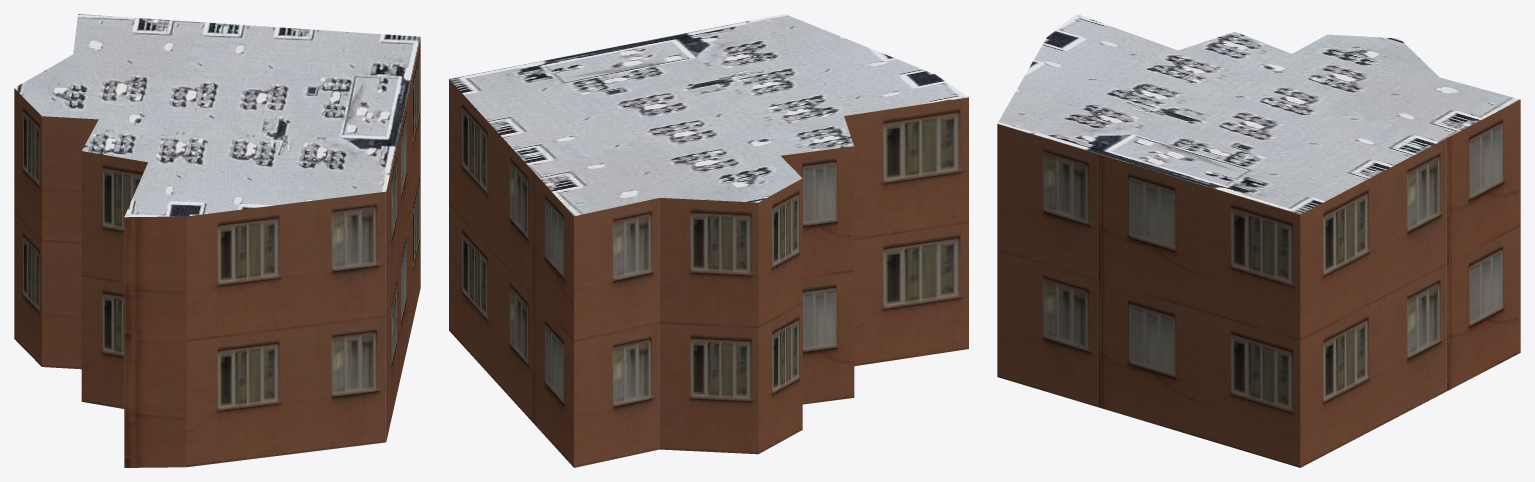
Rendered from ResTex__4751.fbx.
The picture shows the model from 3 angles, left to right: view 1: azimuth 30°, elevation 25°; view 2: azimuth 150°, elevation 25°; view 3: azimuth 270°, elevation 25°; orthographic projection.
Parts seen in each view (by area): view 1: CityEngineMaterial_20_m, CityEngineMaterial_8_m; view 2: CityEngineMaterial_20_m, CityEngineMaterial_8_m; view 3: CityEngineMaterial_20_m, CityEngineMaterial_8_m.
Boxes of the visible parts, box(x1,y1,x2,y2) form: CityEngineMaterial_20_m: box(14, 38, 420, 467); CityEngineMaterial_8_m: box(14, 14, 420, 217); CityEngineMaterial_20_m: box(449, 79, 968, 467); CityEngineMaterial_8_m: box(449, 14, 968, 216); CityEngineMaterial_20_m: box(997, 99, 1520, 467); CityEngineMaterial_8_m: box(997, 14, 1519, 214).
Size of the model in its own units: 10.2 by 6 by 11.23.
2 materials, 2 textured.
